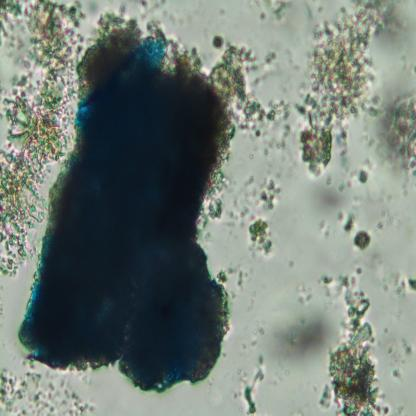Background material: (0, 3, 81, 278), (297, 1, 398, 178), (315, 266, 392, 414), (214, 42, 292, 144), (0, 360, 96, 416), (268, 303, 332, 365), (382, 86, 416, 180), (91, 2, 168, 30), (318, 179, 358, 226), (381, 327, 416, 380), (239, 174, 283, 212), (242, 353, 265, 415), (247, 219, 278, 257), (342, 214, 370, 251), (240, 324, 267, 352), (258, 1, 292, 22), (391, 271, 416, 298), (221, 267, 250, 289), (320, 217, 332, 240), (300, 284, 312, 304)
Fragment: (18, 29, 231, 386)
